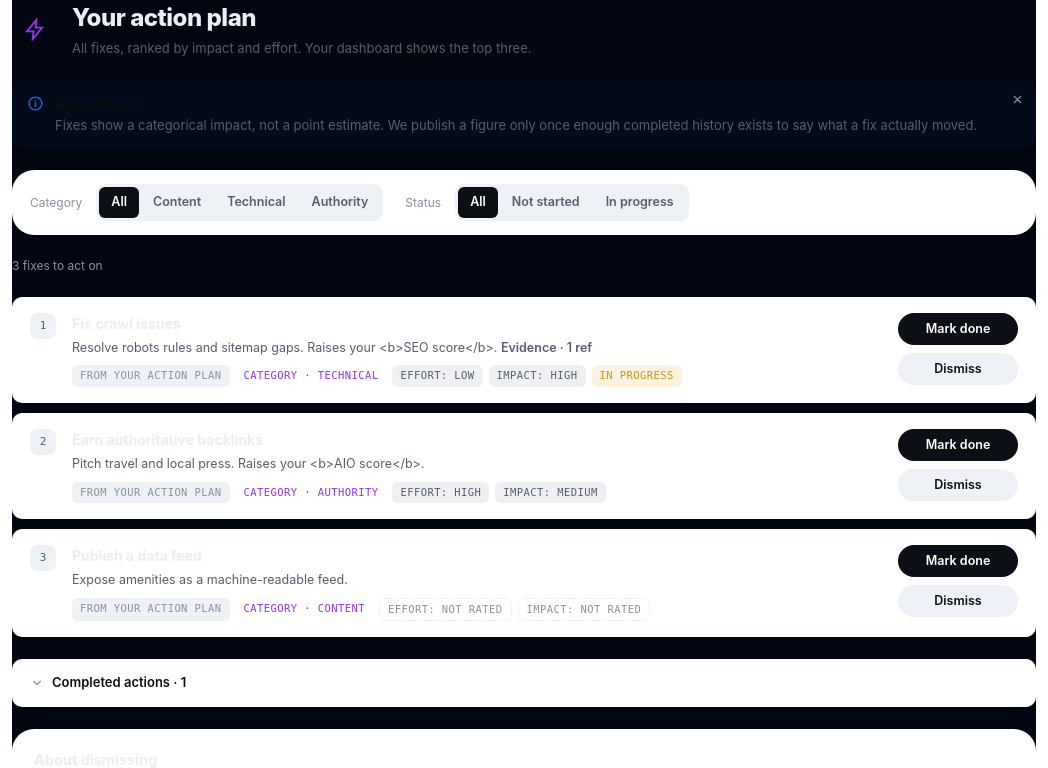
Test: fixes page › folds done board records into a Completed accordion, closed by default
Expected: the text "Add FAQ schema to the location page" is not shown
Click the button with test id "fix-history-completed-trigger": (119, 682) 12,659 -> 1036,707
(page scrolled)
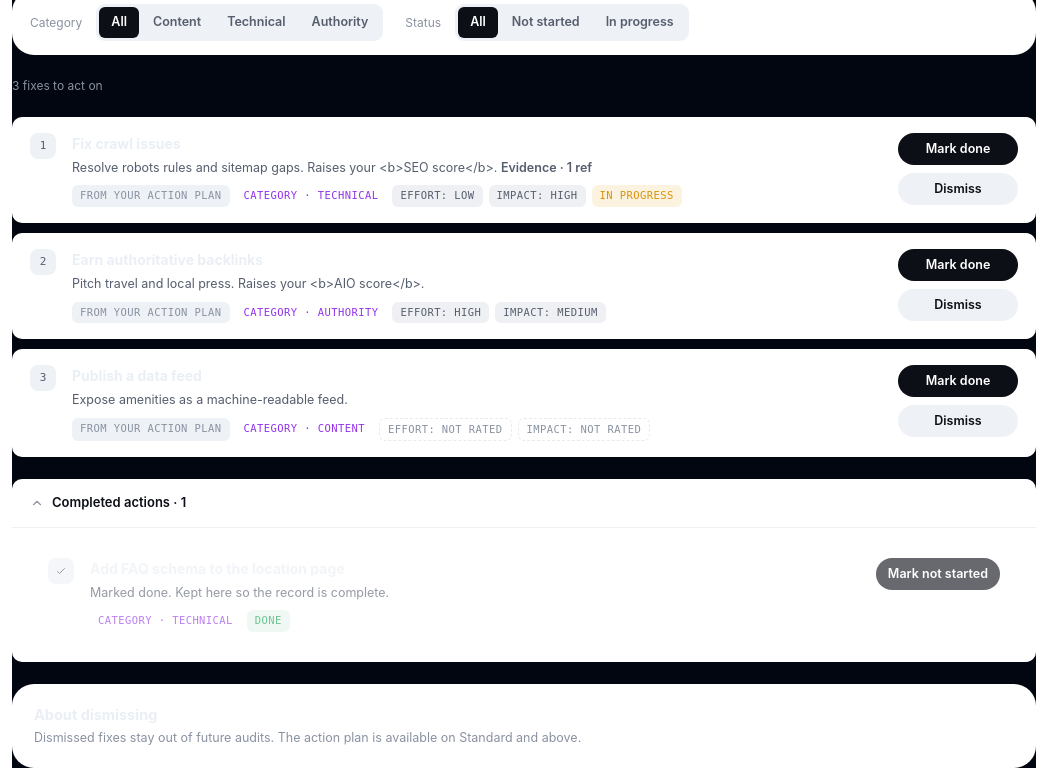
Expected: the button with test id "fix-history-completed-trigger" is expanded, 12,479 -> 1036,527
Expected: the text "Marked done. Kept here so the record is complete." is shown, 90,585 -> 389,600
